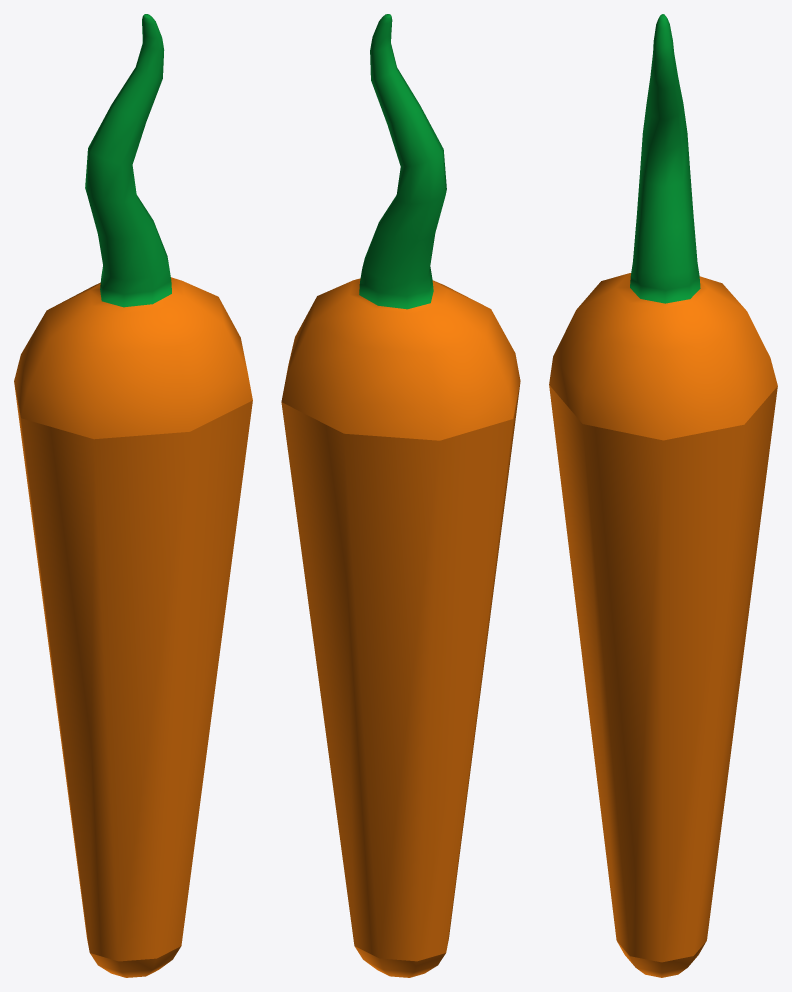
Rendered from Carrot Sprout.fbx.
3 views of the same model, side by side, from view 1: azimuth 30°, elevation 25°; view 2: azimuth 150°, elevation 25°; view 3: azimuth 270°, elevation 25° (orthographic).
Visible parts, largest first — view 1: Carrot__Ready_1; view 2: Carrot__Ready_1; view 3: Carrot__Ready_1.
Boxes of the visible parts, box(x1,y1,x2,y2) form: Carrot__Ready_1: box(14, 14, 252, 977); Carrot__Ready_1: box(281, 14, 520, 977); Carrot__Ready_1: box(549, 14, 777, 977).
Size of the model in its own units: 7.88 by 31.85 by 6.9.
